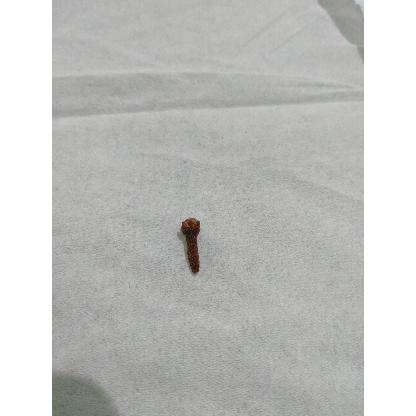sedang: (180, 219, 201, 275)
